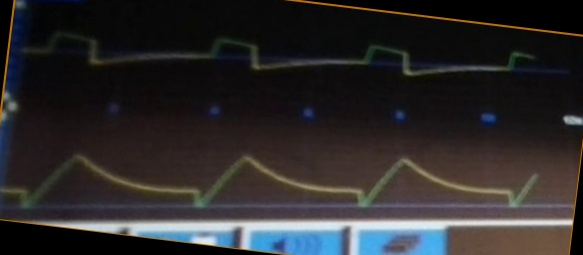Flow: (30, 31, 536, 99)
Leakage Volume: (7, 145, 539, 215)
